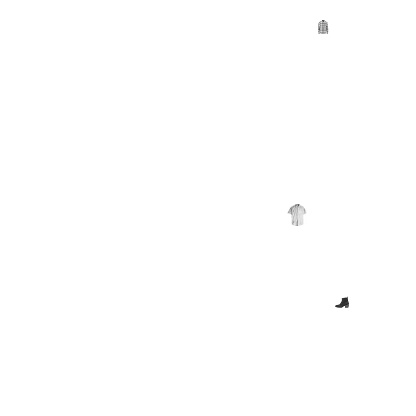0: (323, 214, 379, 270)
7: (363, 70, 391, 98)
9: (192, 250, 304, 362)
Dress: (95, 128, 207, 240), (46, 68, 88, 110)
Pullover: (230, 194, 252, 216)
T-shirt/top: (201, 100, 285, 184)
